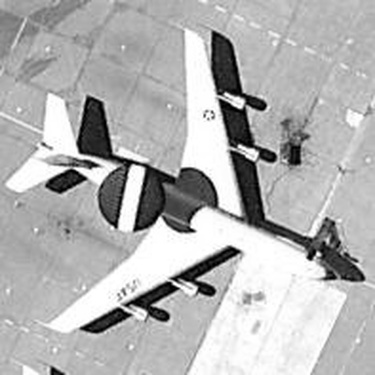airplane: (1, 21, 346, 338), (13, 354, 41, 372)
